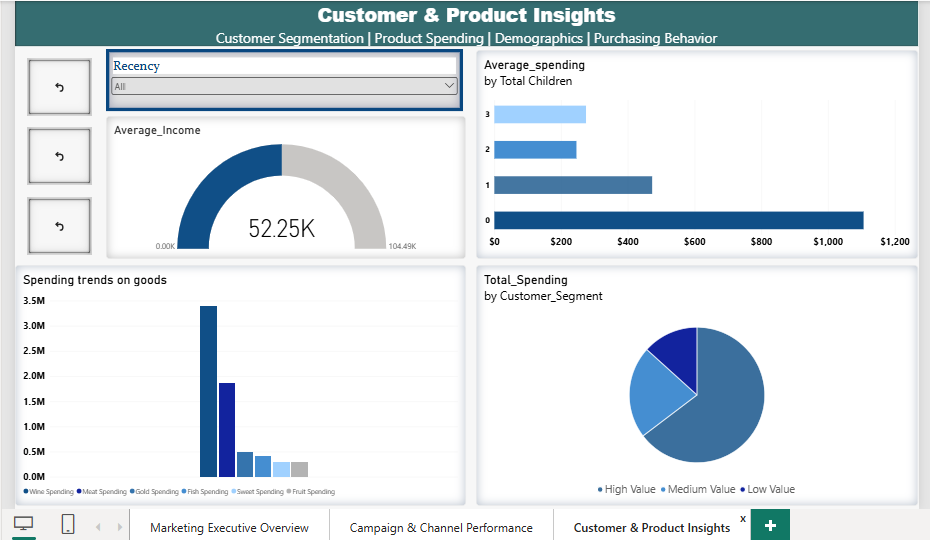

Layout of this report page (visuals, bound fields, positions):
{"tool":"powerbi","page":{"name":"Customer & Product Insights","canvas":[1920,1080],"ordinal":2},"visuals":[{"type":"gauge","fields":{"Y":["marketing_data.Average_Recency"]},"box":[163.7,727.1,633.5,229.6],"z":0},{"type":"clusteredColumnChart","title":"Spending trends on goods","fields":{"Y":["marketing_data.Wine Spending","marketing_data.Meat Spending","marketing_data.Gold Spending","marketing_data.Fish Spending","marketing_data.Sweet Spending","marketing_data.Fruit Spending"]},"box":[0,561.3,958.8,512.4],"z":1000},{"type":"pieChart","fields":{"Category":["marketing_data.Customer_Segment"],"Y":["marketing_data.Total_Spending"]},"box":[980.1,561.3,939.7,512.4],"z":2000},{"type":"barChart","fields":{"Category":["marketing_data.Total Children"],"Y":["marketing_data.Average_spending"]},"box":[980.1,104.2,939.7,444.3],"z":3000},{"type":"shape","title":"Customer & Product Insights","box":[0,0,1919.8,95.7],"z":4000},{"type":"gauge","fields":{"Y":["marketing_data.Average_Income"]},"box":[193.5,244.5,765.4,304],"z":5000},{"type":"slicer","fields":{"Values":["marketing_data.Recency"]},"box":[193.5,102,759,131.8],"z":6000},{"type":"actionButton","box":[25.5,121.2,138.2,123.3],"z":7000},{"type":"actionButton","box":[25.5,267.9,138.2,123.3],"z":8000},{"type":"actionButton","box":[25.5,416.7,138.2,123.3],"z":9000}]}

Visuals, with their boxes on the page's 1920x1080 design canvas (x1, y1, x2, y2). These are canvas units, not pixel positions in the 930x540 screenshot, which may show the page scaled, cropped or inside an application window:
gauge - marketing_data.Average_Recency: [164,727,797,957]
"Spending trends on goods" clusteredColumnChart: [0,561,959,1074]
pieChart - marketing_data.Customer_Segment x marketing_data.Total_Spending: [980,561,1920,1074]
barChart - marketing_data.Total Children x marketing_data.Average_spending: [980,104,1920,548]
"Customer & Product Insights" shape: [0,0,1920,96]
gauge - marketing_data.Average_Income: [194,244,959,548]
slicer - marketing_data.Recency: [194,102,952,234]
actionButton: [26,121,164,244]
actionButton: [26,268,164,391]
actionButton: [26,417,164,540]
